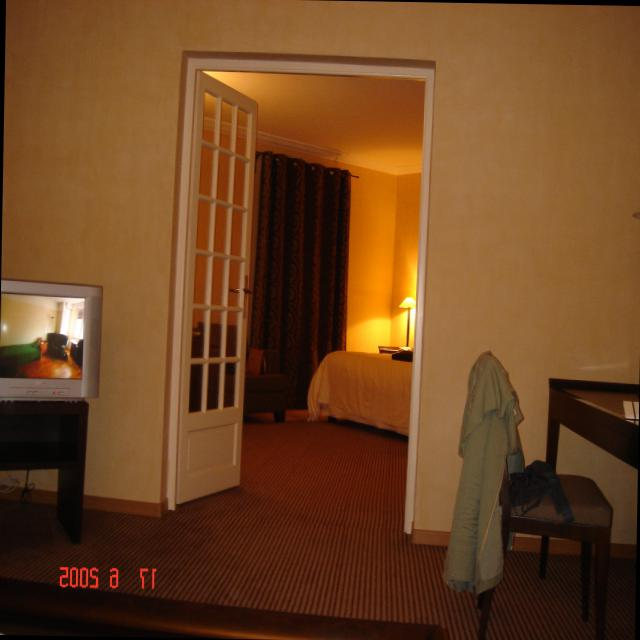TV: (0, 284, 99, 396)
bed -occluded-: (309, 353, 409, 436)
curtain crop: (248, 156, 348, 408)
door bars: (175, 76, 254, 500)
